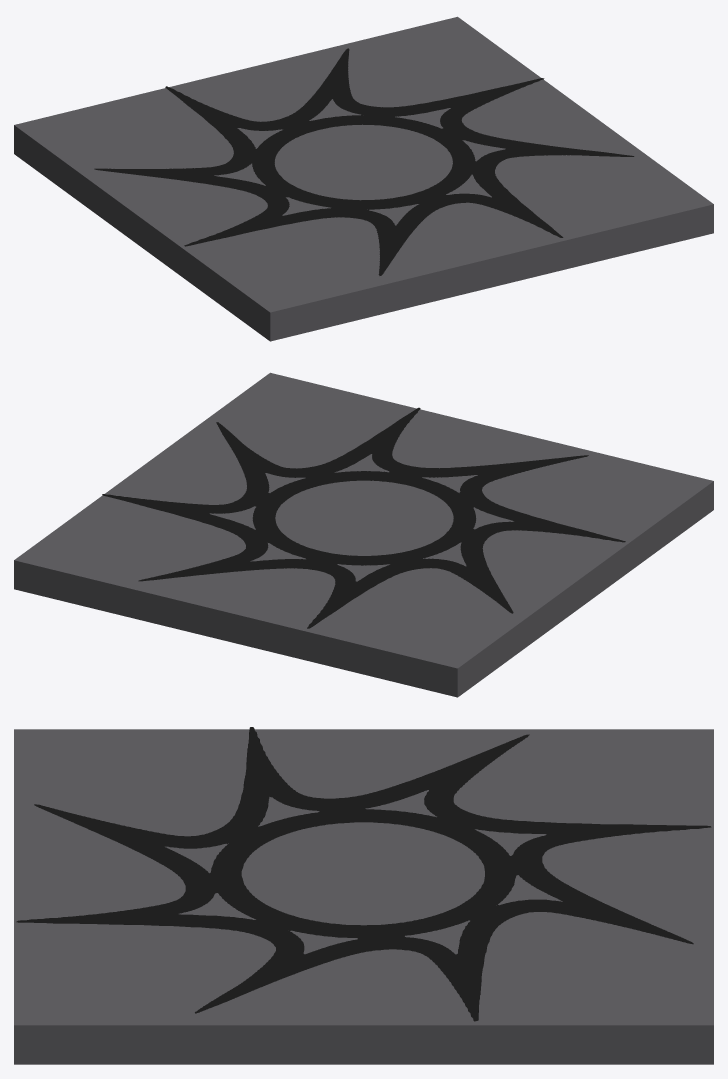
Rendered from Spawnpoint.obj.
3 views of the same model, one above another, from view 1: azimuth 30°, elevation 25°; view 2: azimuth 150°, elevation 25°; view 3: azimuth 270°, elevation 25° (orthographic). The views are drawn at different scales.
Visible parts, largest first — view 1: Spawnlocation1, Spawnlocation2; view 2: Spawnlocation1, Spawnlocation2; view 3: Spawnlocation1, Spawnlocation2.
Boxes of the visible parts, left/top/right/bottom form: Spawnlocation1: left=14, top=16, right=713, bottom=341; Spawnlocation2: left=94, top=48, right=634, bottom=275; Spawnlocation1: left=14, top=372, right=713, bottom=697; Spawnlocation2: left=102, top=407, right=625, bottom=628; Spawnlocation1: left=14, top=729, right=713, bottom=1064; Spawnlocation2: left=16, top=727, right=711, bottom=1021.
Size of the model in its own units: 4 by 0.27 by 4.
Materials: 2 (1 with a texture image).
